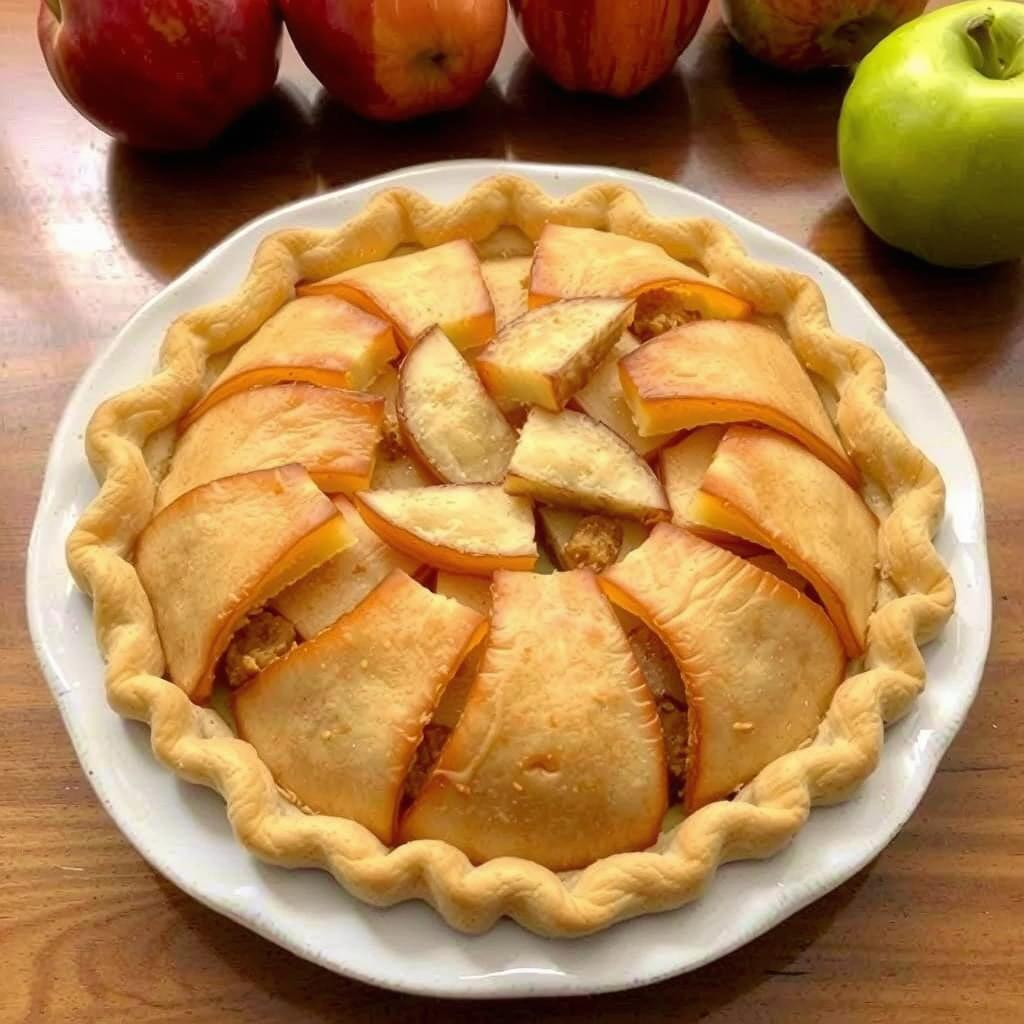cake: (53, 167, 969, 956)
